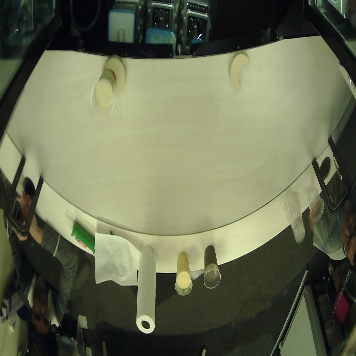empty_cup: (283, 191, 305, 242), (304, 181, 323, 221)
full_cup: (92, 69, 116, 116), (174, 250, 195, 296), (201, 244, 222, 290)
puck: (229, 51, 250, 90), (105, 55, 126, 94)
